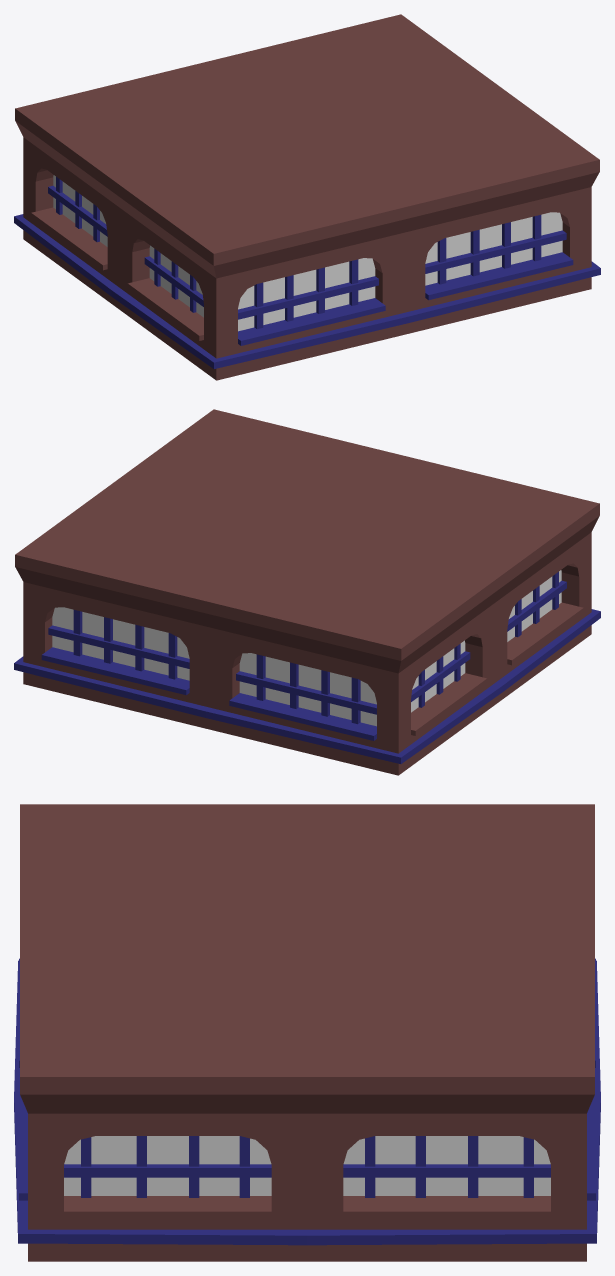
The picture shows the model from 3 angles, top to bottom: view 1: azimuth 30°, elevation 25°; view 2: azimuth 150°, elevation 25°; view 3: azimuth 270°, elevation 25°; orthographic projection. The views are drawn at different scales.
Parts seen in each view (by area): view 1: floor5.3; view 2: floor5.3; view 3: floor5.3.
Boxes of the visible parts, x1,y1,x2,y2 form: floor5.3: (14, 14, 600, 380); floor5.3: (14, 409, 600, 775); floor5.3: (14, 804, 600, 1261).
Size of the model in its own units: 205 by 64.95 by 183.
